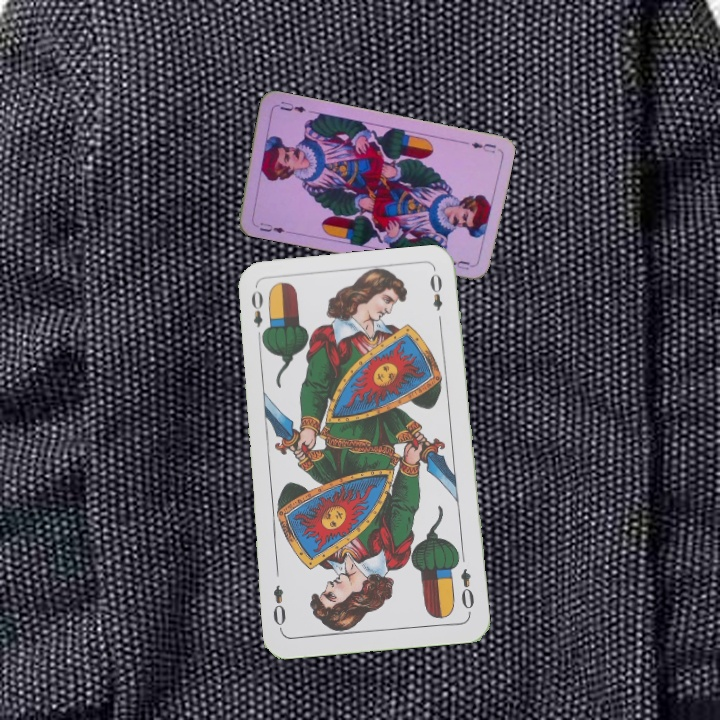EO: (247, 286, 269, 344), (457, 565, 477, 612)
EU: (255, 218, 287, 236), (467, 138, 498, 156)
